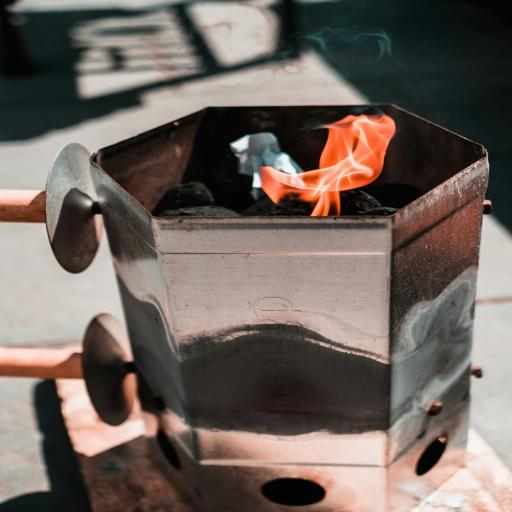fire: (235, 97, 451, 221)
